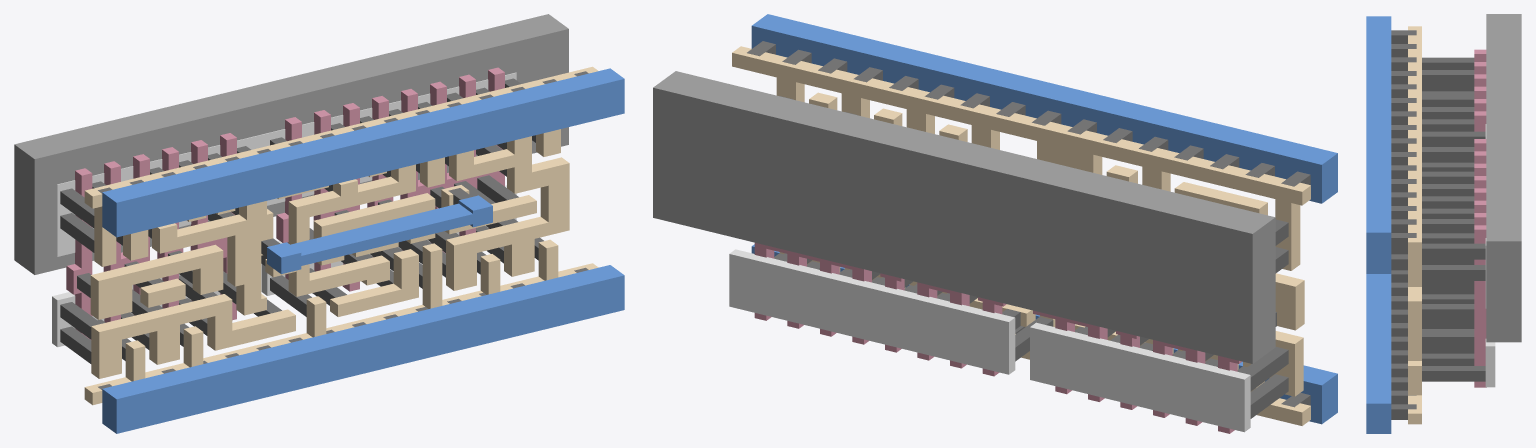
Rendered from sky130_fd_sc_hd__o2bb2a_4.gds.gltf.
The picture shows the model from 3 angles, left to right: view 1: azimuth 30°, elevation 25°; view 2: azimuth 150°, elevation 25°; view 3: azimuth 270°, elevation 25°; orthographic projection. The views are drawn at different scales.
Parts seen in each view (by area): view 1: sky130_fd_sc_hd__o2bb2a_4_met1, sky130_fd_sc_hd__o2bb2a_4_li1, sky130_fd_sc_hd__o2bb2a_4_nwell, sky130_fd_sc_hd__o2bb2a_4_licon, sky130_fd_sc_hd__o2bb2a_4_poly, sky130_fd_sc_hd__o2bb2a_4_diff, sky130_fd_sc_hd__o2bb2a_4_mcon; view 2: sky130_fd_sc_hd__o2bb2a_4_nwell, sky130_fd_sc_hd__o2bb2a_4_diff, sky130_fd_sc_hd__o2bb2a_4_li1, sky130_fd_sc_hd__o2bb2a_4_met1, sky130_fd_sc_hd__o2bb2a_4_poly, sky130_fd_sc_hd__o2bb2a_4_mcon, sky130_fd_sc_hd__o2bb2a_4_licon; view 3: sky130_fd_sc_hd__o2bb2a_4_licon, sky130_fd_sc_hd__o2bb2a_4_nwell, sky130_fd_sc_hd__o2bb2a_4_met1, sky130_fd_sc_hd__o2bb2a_4_mcon, sky130_fd_sc_hd__o2bb2a_4_li1, sky130_fd_sc_hd__o2bb2a_4_poly, sky130_fd_sc_hd__o2bb2a_4_diff.
Boxes of the visible parts, box(x1,y1,x2,y2) form: sky130_fd_sc_hd__o2bb2a_4_met1: box(102, 68, 624, 433); sky130_fd_sc_hd__o2bb2a_4_li1: box(84, 66, 598, 405); sky130_fd_sc_hd__o2bb2a_4_nwell: box(14, 14, 568, 274); sky130_fd_sc_hd__o2bb2a_4_licon: box(60, 78, 543, 363); sky130_fd_sc_hd__o2bb2a_4_poly: box(66, 67, 504, 339); sky130_fd_sc_hd__o2bb2a_4_diff: box(52, 72, 516, 347); sky130_fd_sc_hd__o2bb2a_4_mcon: box(98, 71, 588, 389); sky130_fd_sc_hd__o2bb2a_4_nwell: box(653, 71, 1275, 363); sky130_fd_sc_hd__o2bb2a_4_diff: box(729, 249, 1250, 432); sky130_fd_sc_hd__o2bb2a_4_li1: box(732, 46, 1310, 425); sky130_fd_sc_hd__o2bb2a_4_met1: box(751, 14, 1337, 424); sky130_fd_sc_hd__o2bb2a_4_poly: box(754, 242, 1241, 433); sky130_fd_sc_hd__o2bb2a_4_mcon: box(747, 41, 1310, 407); sky130_fd_sc_hd__o2bb2a_4_licon: box(774, 96, 1288, 418); sky130_fd_sc_hd__o2bb2a_4_licon: box(1422, 57, 1485, 381); sky130_fd_sc_hd__o2bb2a_4_nwell: box(1486, 14, 1521, 342); sky130_fd_sc_hd__o2bb2a_4_met1: box(1366, 16, 1391, 433); sky130_fd_sc_hd__o2bb2a_4_mcon: box(1391, 30, 1416, 419); sky130_fd_sc_hd__o2bb2a_4_li1: box(1408, 26, 1421, 424); sky130_fd_sc_hd__o2bb2a_4_poly: box(1474, 49, 1486, 387); sky130_fd_sc_hd__o2bb2a_4_diff: box(1485, 124, 1495, 387).
Bounding box in the file's own units: 7.74 × 3.2 × 2.24.
